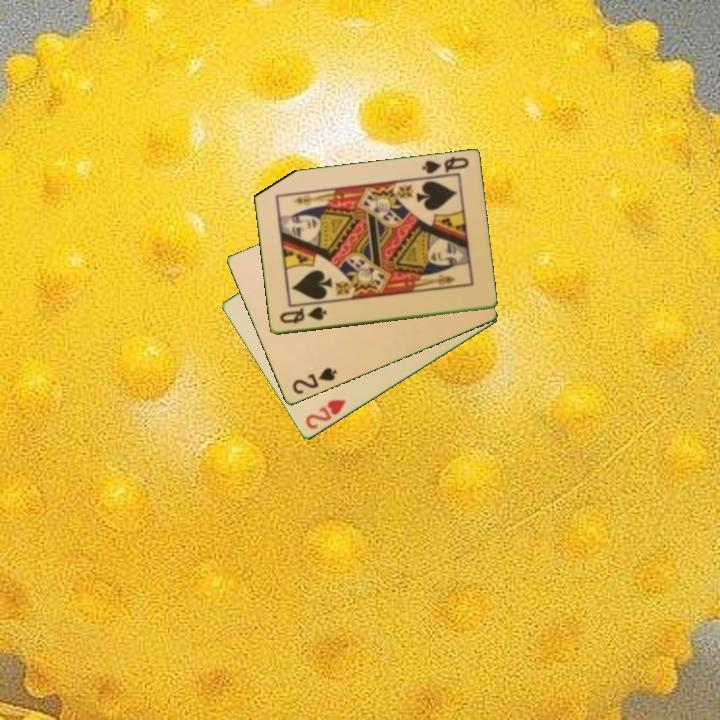2h: (302, 396, 349, 433)
2s: (289, 364, 340, 398)
Qs: (418, 153, 471, 181), (276, 303, 329, 327)
